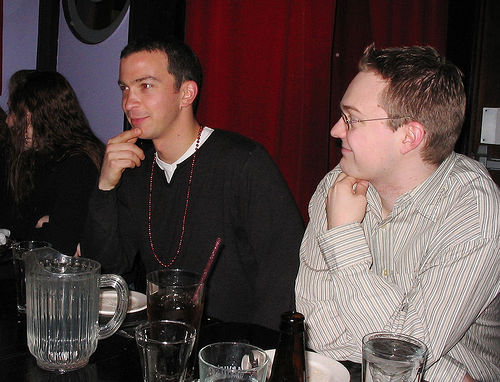without_mask: (332, 66, 429, 185), (116, 50, 206, 140)
